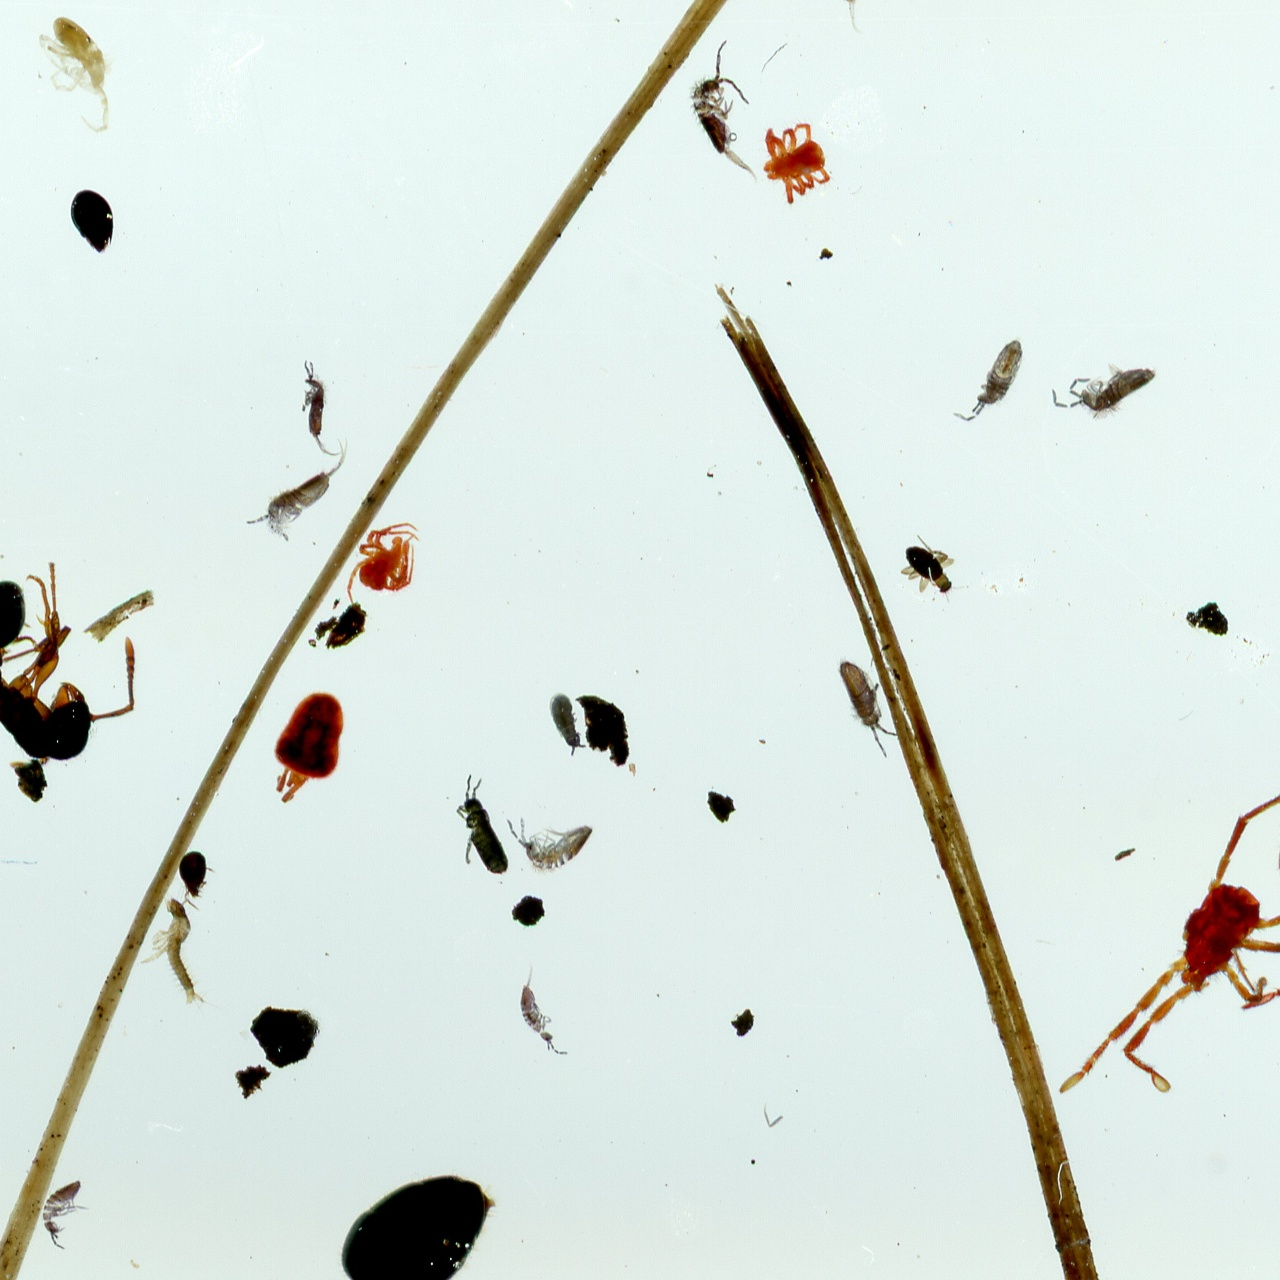arthropod: (29, 1084, 743, 1280), (1022, 767, 1280, 1197), (0, 558, 142, 788), (233, 431, 384, 563), (257, 678, 365, 821), (819, 639, 913, 768), (683, 35, 762, 183), (1041, 347, 1175, 431), (139, 892, 227, 1019), (32, 14, 116, 136), (440, 767, 520, 893), (883, 520, 980, 619), (501, 953, 571, 1068), (755, 120, 842, 207), (951, 338, 1032, 427), (345, 518, 423, 605), (505, 813, 599, 877), (297, 358, 342, 458), (539, 685, 592, 767), (36, 1173, 89, 1254), (66, 188, 117, 256), (178, 849, 219, 912), (787, 0, 865, 30)
